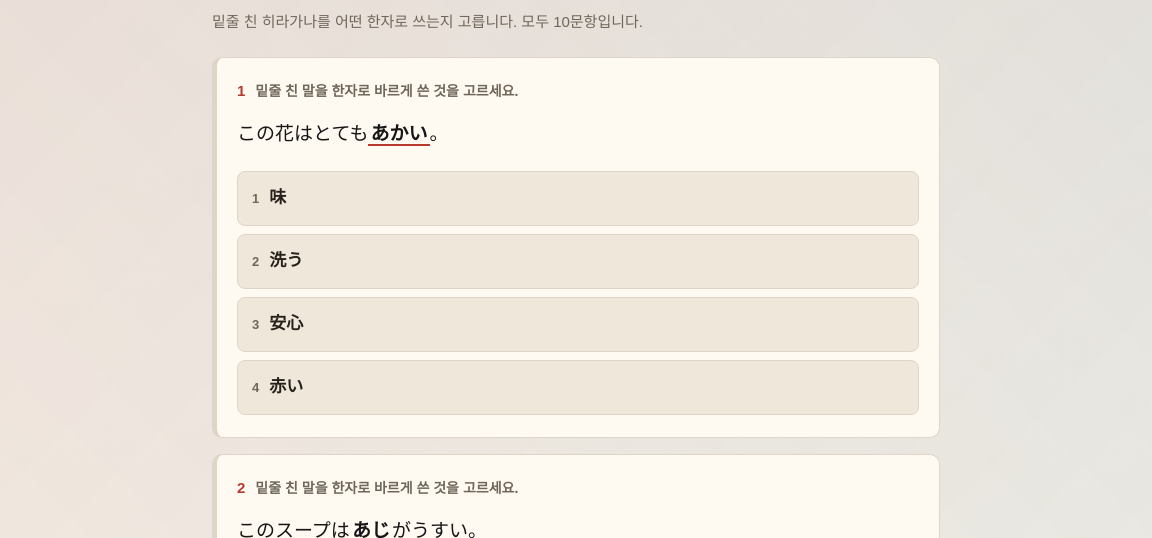
it: 실전 연습 화면 (S3, AC-8) › 답하지 않은 문항은 오답으로 세고 미응답으로 표시한다 (JN4-023)
Click the button "4赤い" at (286, 387), box [237,360,919,415]
(page scrolled)
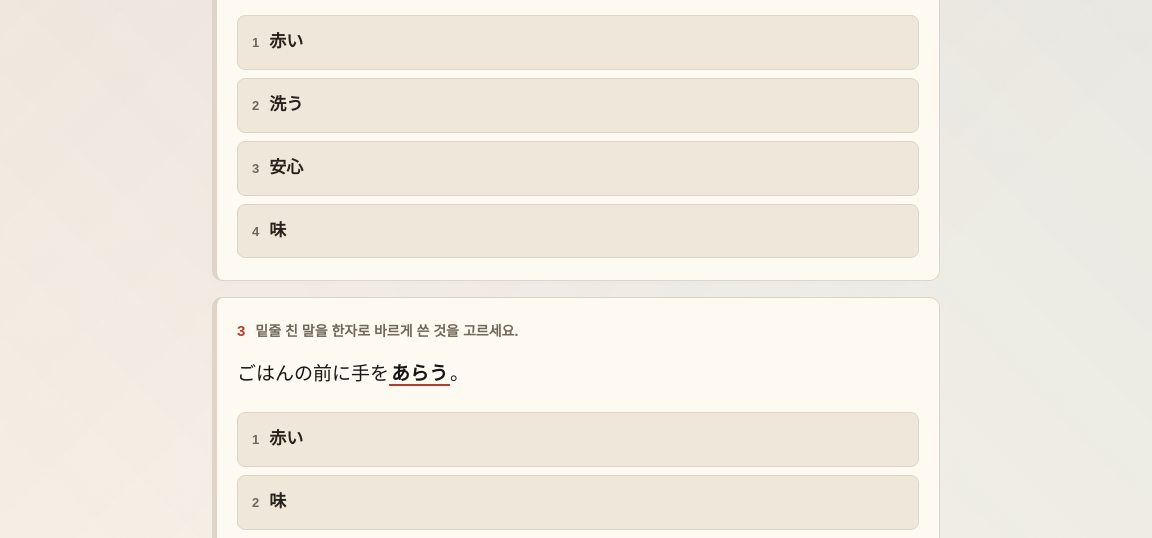
Click the button "4味" at (256, 231), box [237,204,919,258]
(page scrolled)
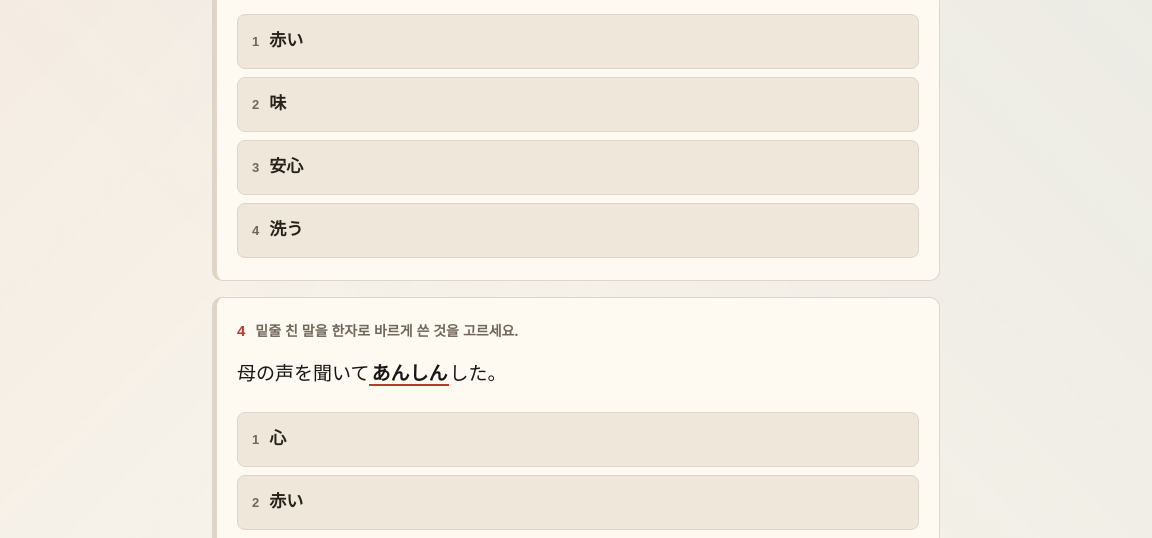
Click the button "4洗う" at (286, 229), box [237,203,919,258]
(page scrolled)
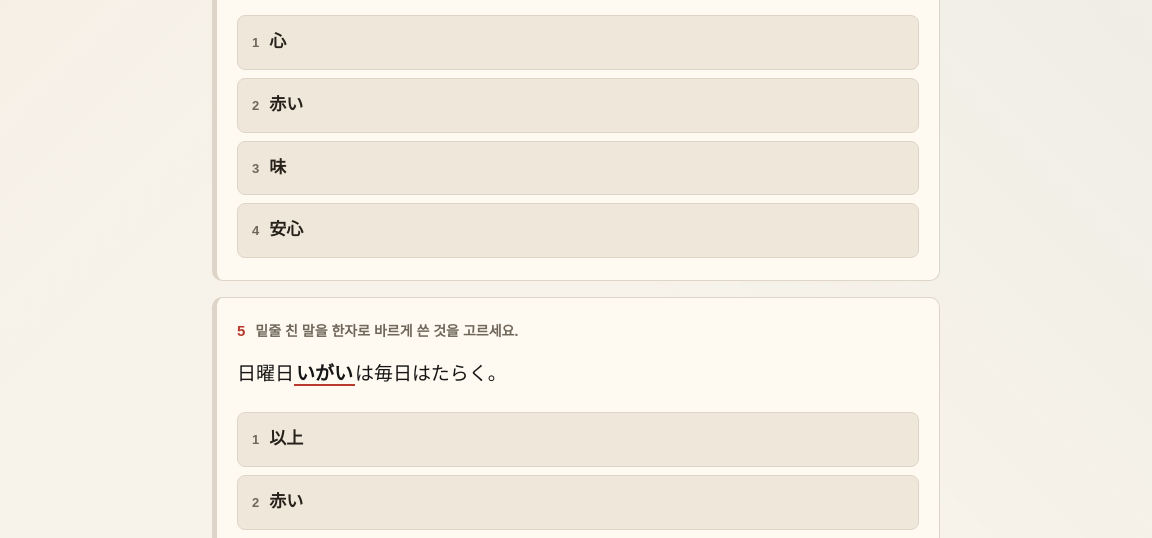
Click the button "4安心" at (286, 230), box [237,203,919,258]
(page scrolled)
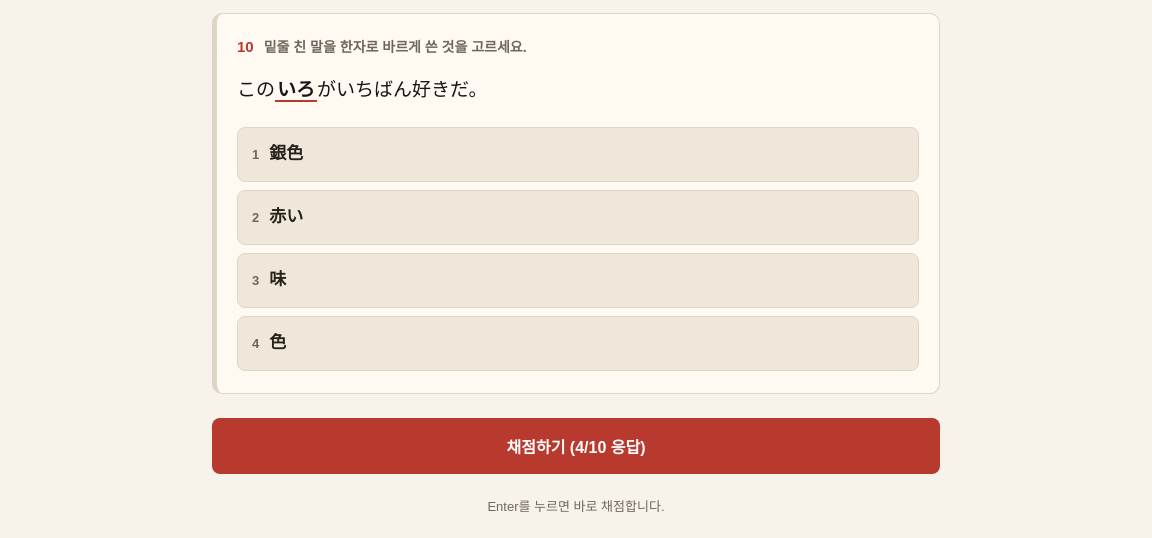
Click the button "채점하기 (4/10 응답)" at (576, 446), box [212,418,940,474]
(page scrolled)
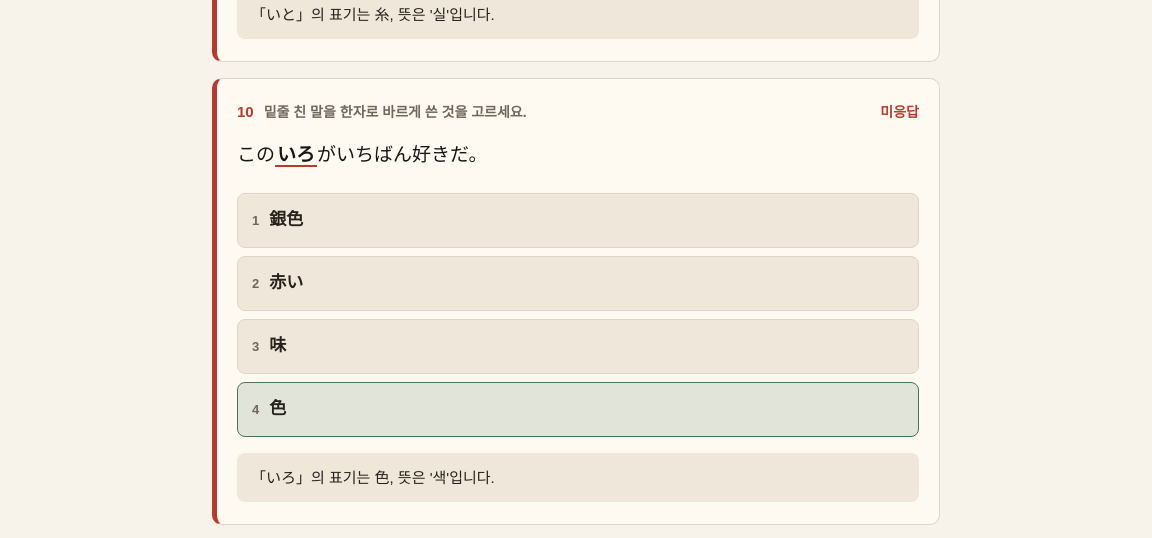
Result: the text with test id "result-mark" reads "미응답" at [880,104,919,120]
